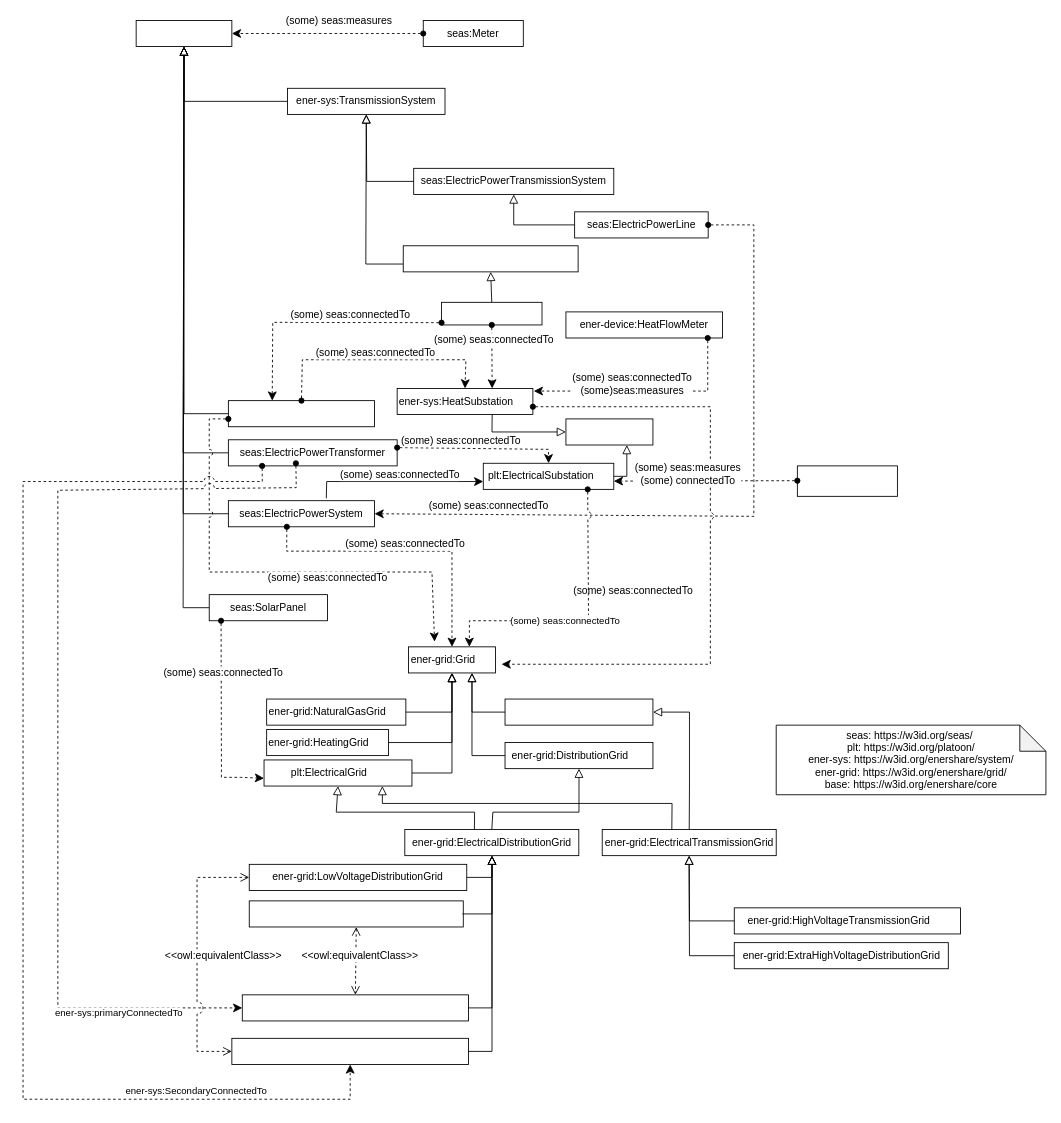
This 1061x1123 diagram has some shape labels left out. Each missing label, with the centre of its shape:
ener-grid:MidiumVoltageDistributionGrid: the point at 355,913
ener-grid:PrimaryElectricalDistributionGrid: the point at 354,1007
ener-grid:SecondaryElectricalDistributionGrid: the point at 349,1050
ener-grid:TransmissionGrid: the point at 578,711
ener-sys:HeatPipe: the point at 491,313
ener-sys:HeatTransmissionSystem: the point at 490,258
plt:Substation: the point at 609,431
plt:ThermalSystem: the point at 301,413
seas:SmartMeter: the point at 846,480
seas:System: the point at 183,33
